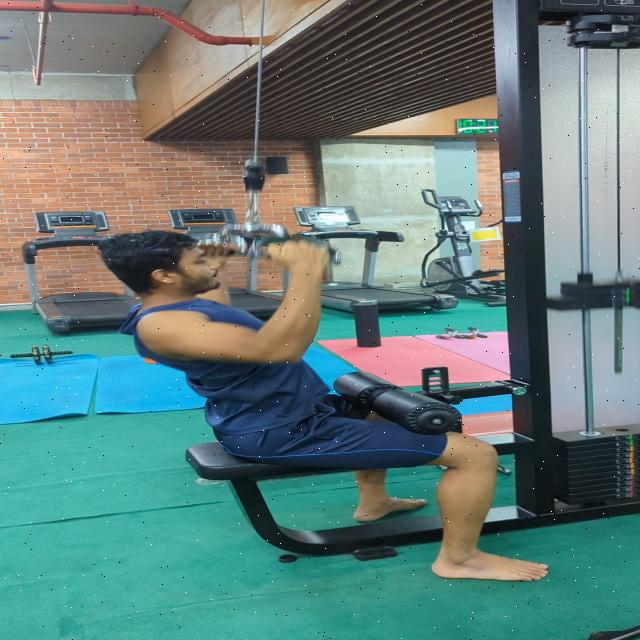Normal_LatPulldown: (89, 215, 563, 587)
